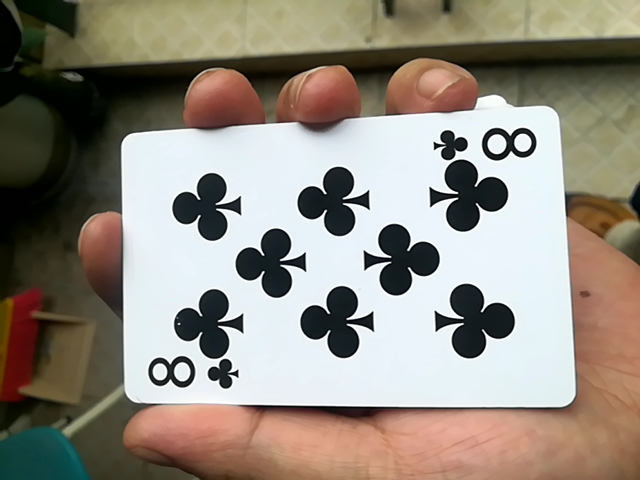mh 8: (107, 111, 570, 432)
